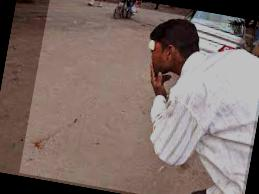spitting: (17, 0, 258, 193)
